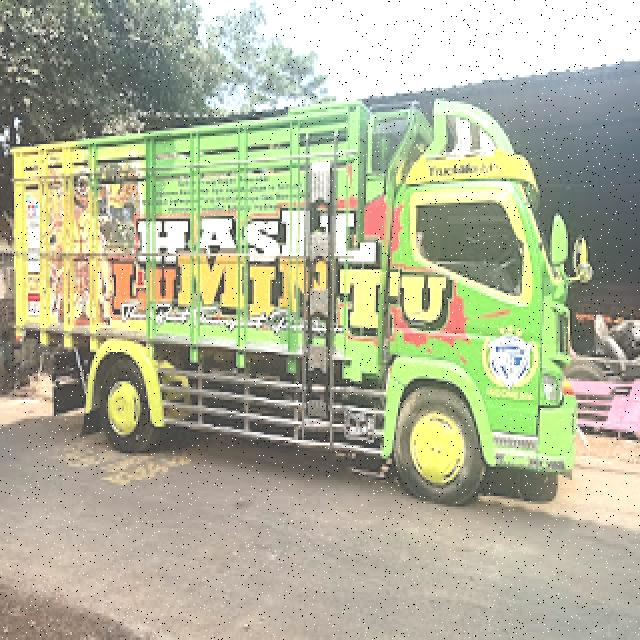truck: (12, 93, 592, 499)
